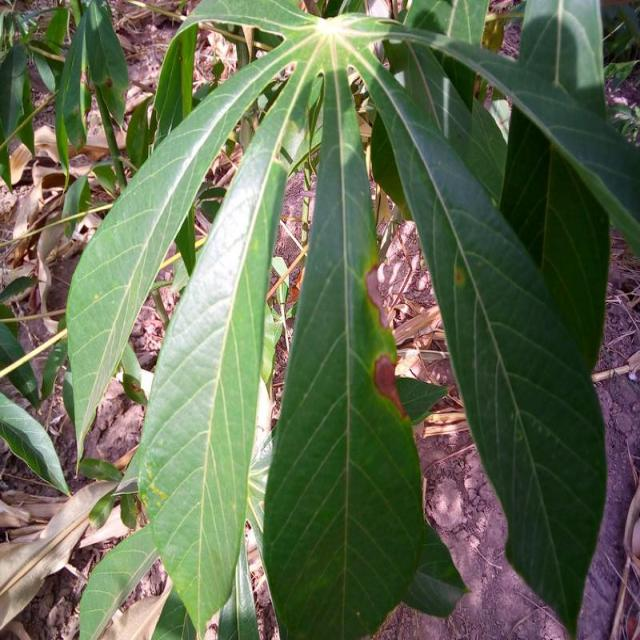cassava leaf: (62, 1, 631, 637), (354, 30, 609, 636), (259, 36, 426, 638)
